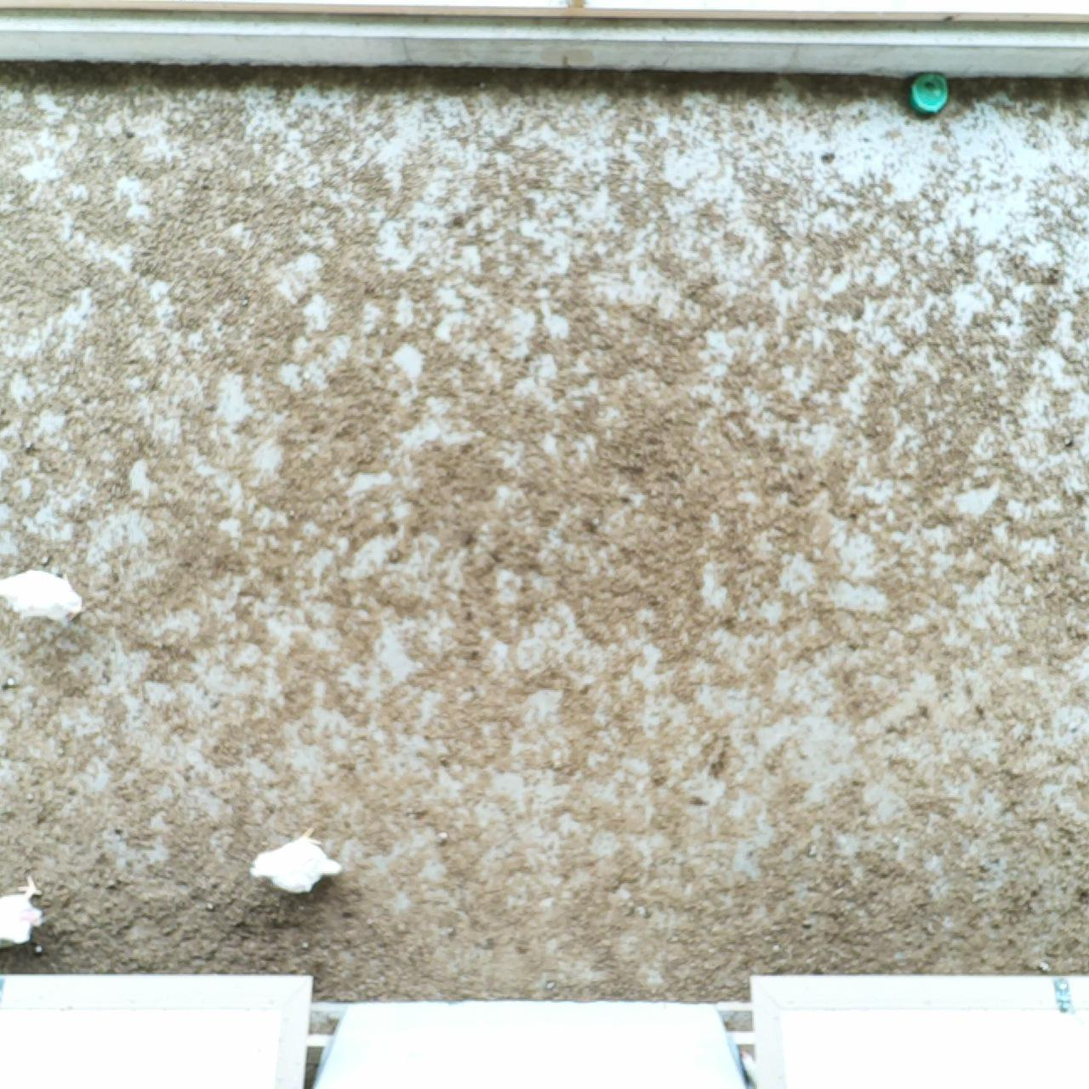chicken: (247, 822, 345, 899), (0, 566, 89, 626), (0, 869, 48, 948)
